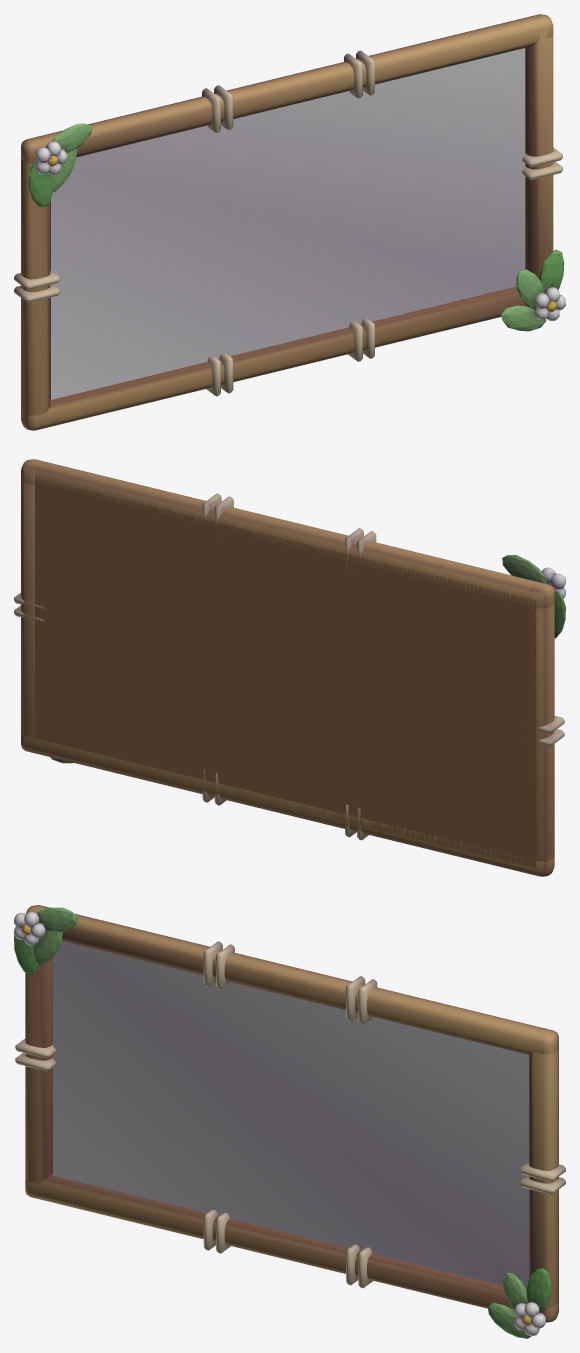
The model's file is board_garden.glb.
3 renders of one model, top to bottom at view 1: azimuth 30°, elevation 25°; view 2: azimuth 150°, elevation 25°; view 3: azimuth 330°, elevation 25°, orthographic.
Parts seen in each view (by area): view 1: board_garden_menu, board_garden; view 2: board_garden; view 3: board_garden_menu, board_garden.
Part boxes in pixels (x1,y1,x2,y2): board_garden_menu: (50,48,525,399); board_garden: (14,14,565,430); board_garden: (14,459,565,876); board_garden_menu: (53,941,529,1288); board_garden: (14,905,565,1338).
Bounding box in the file's own units: 2.65 × 1.5 × 0.1973.
